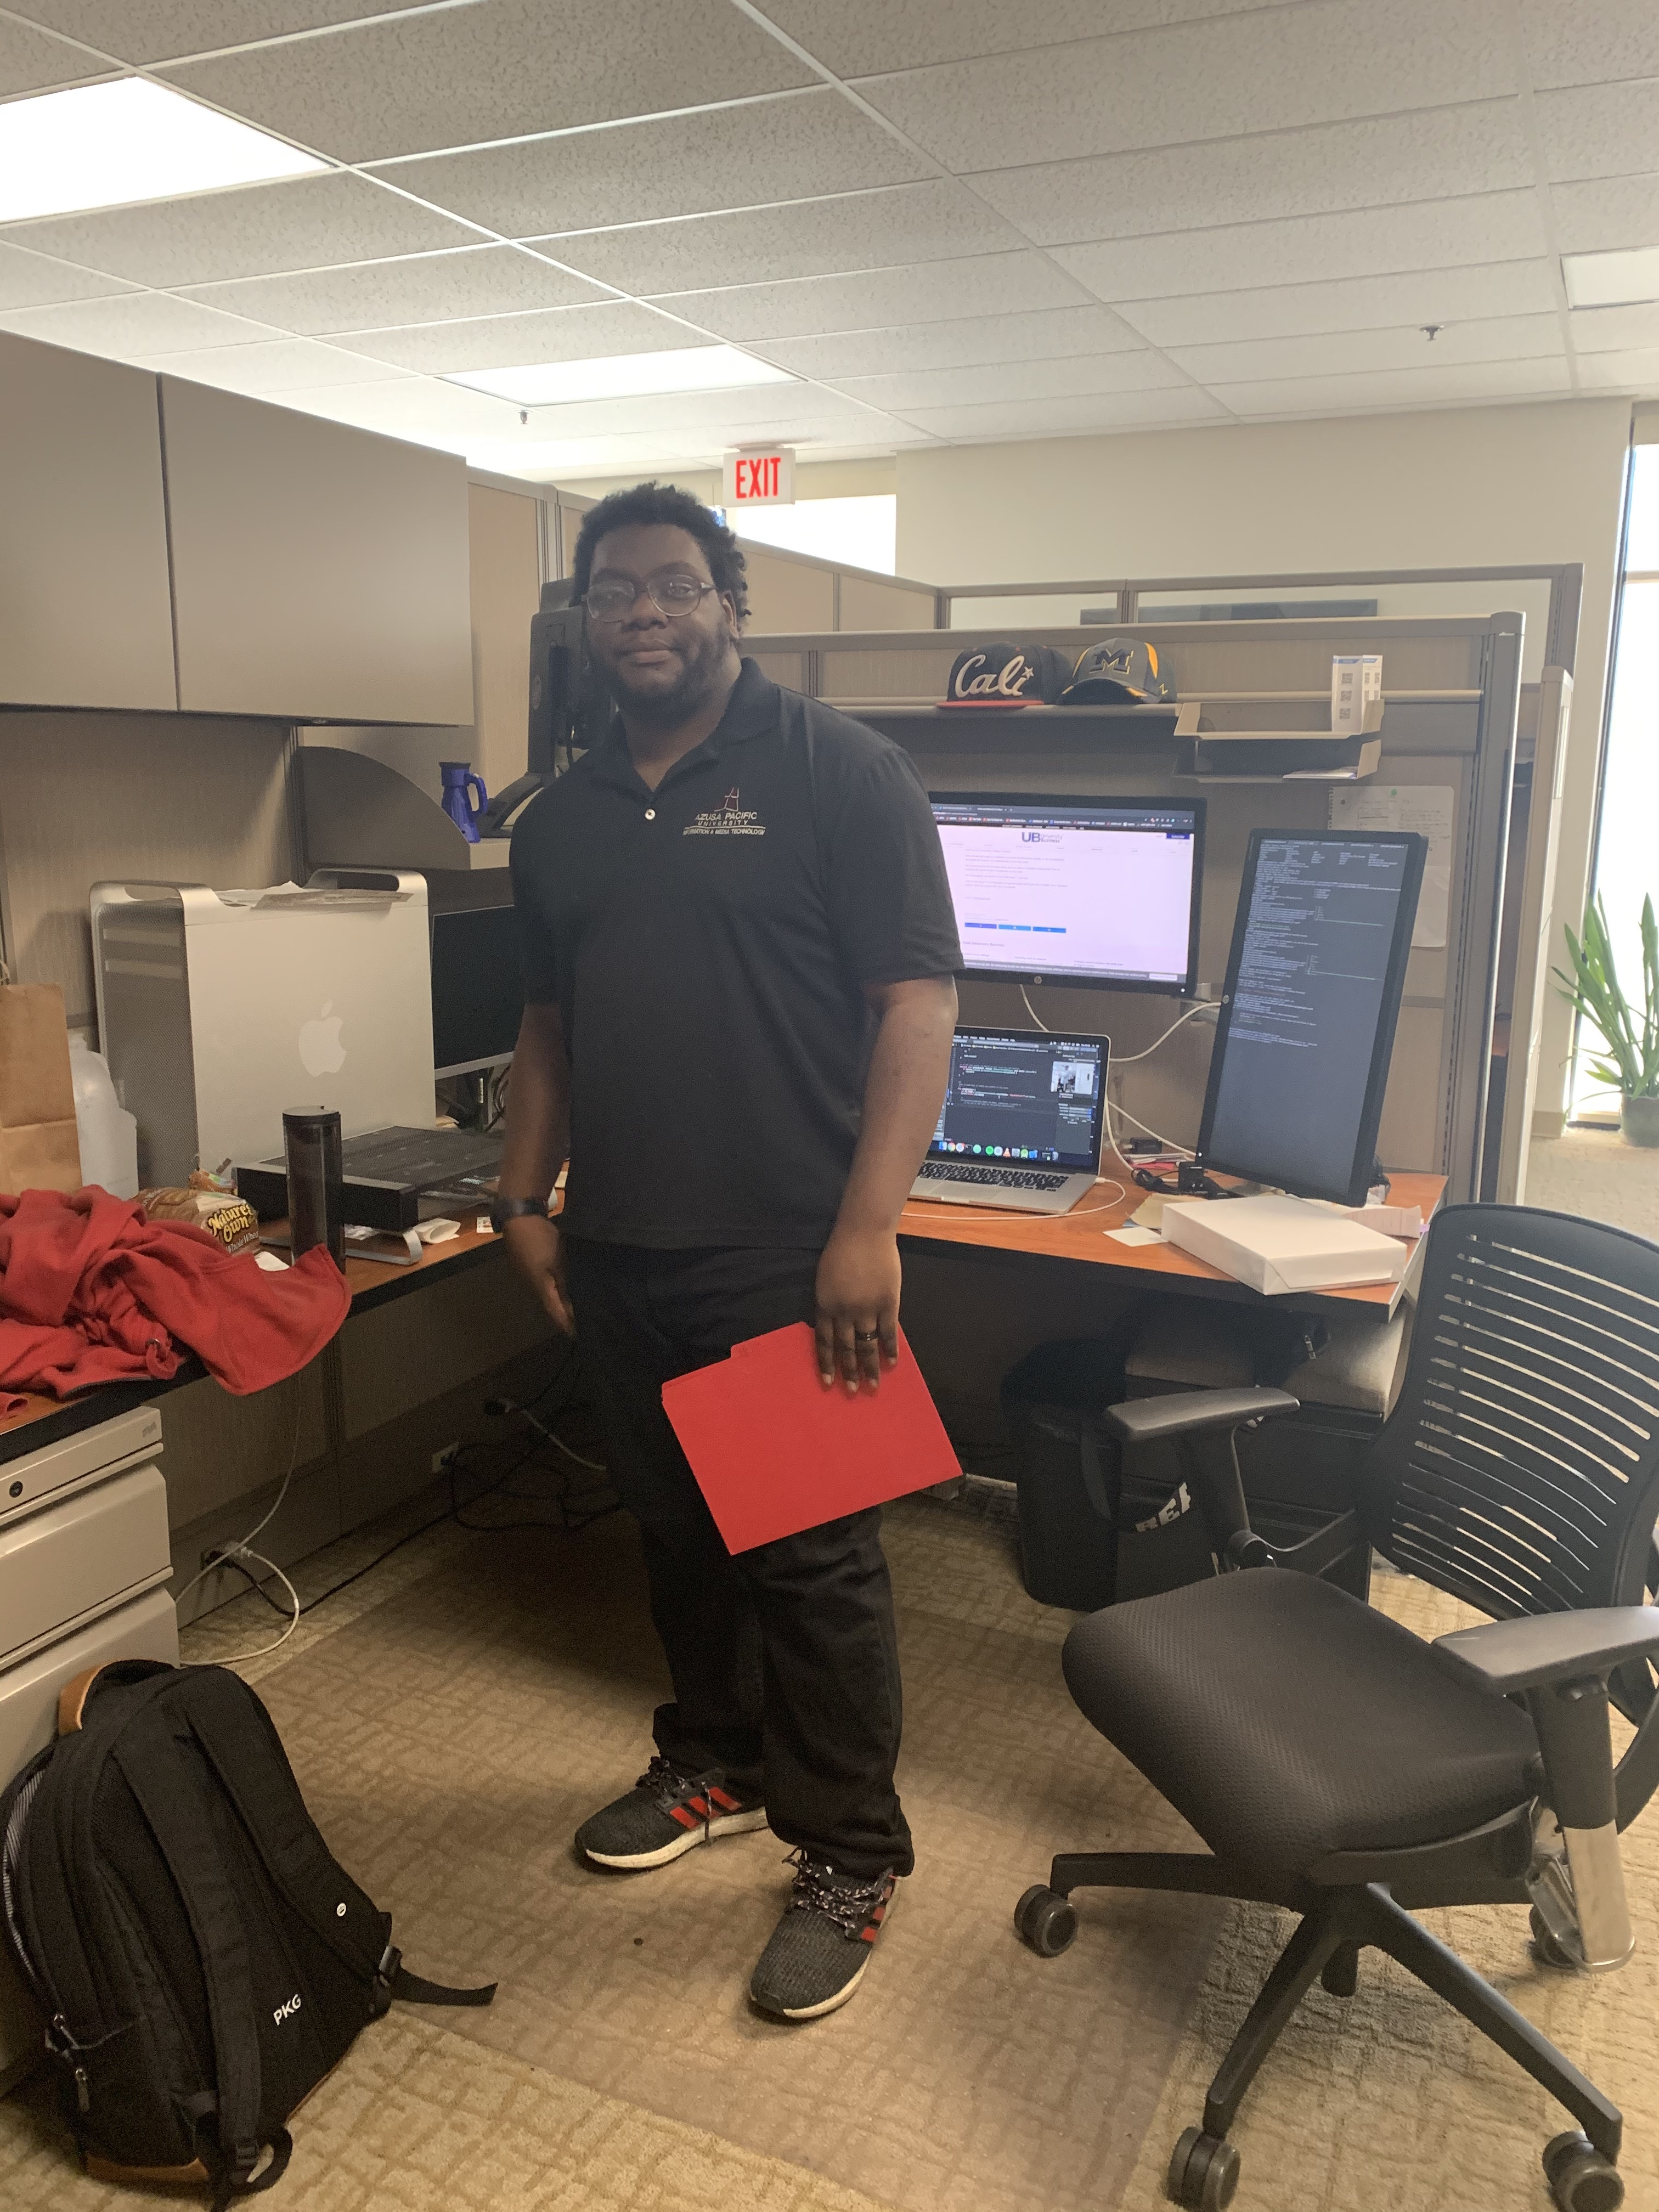red folder: (647, 1312, 981, 1561)
